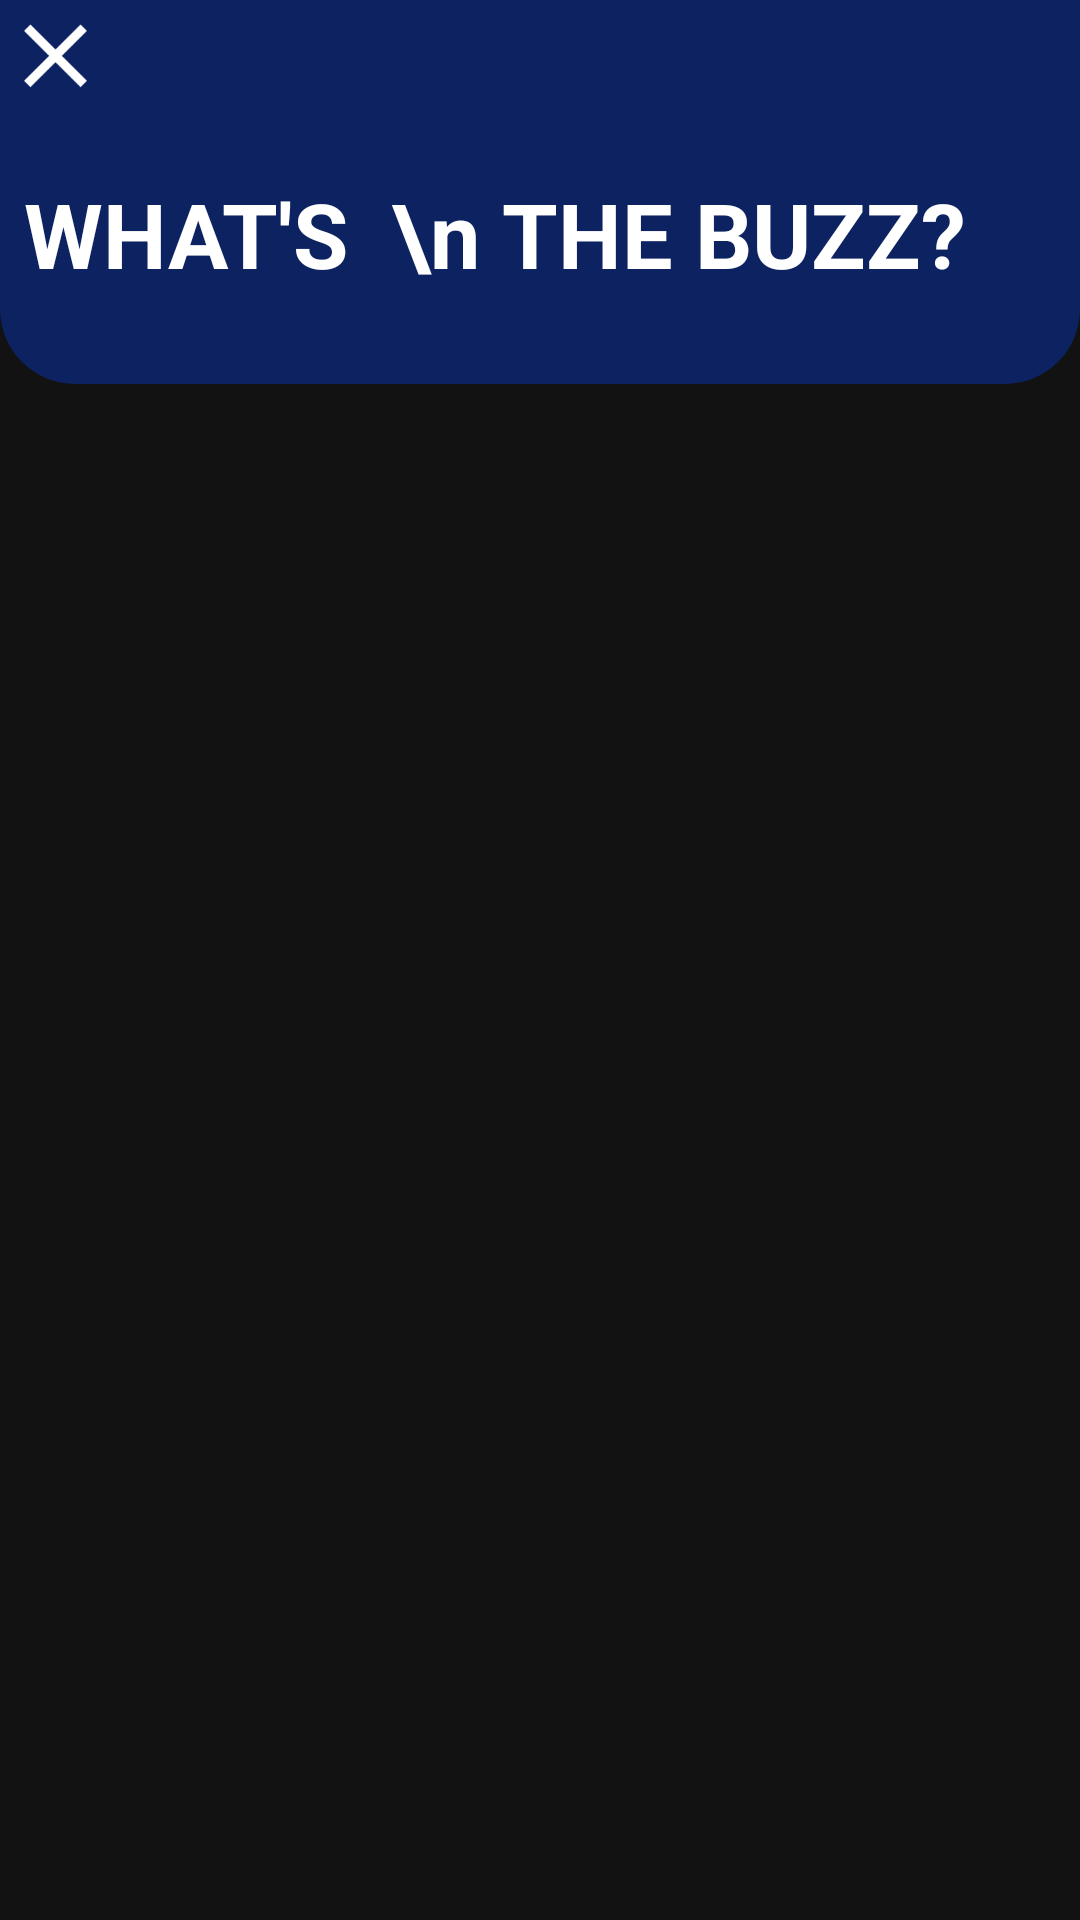

Where to tap for icons on this 1080 x 1920 app screen, as point (x, y):
close nav: point (55, 56)
